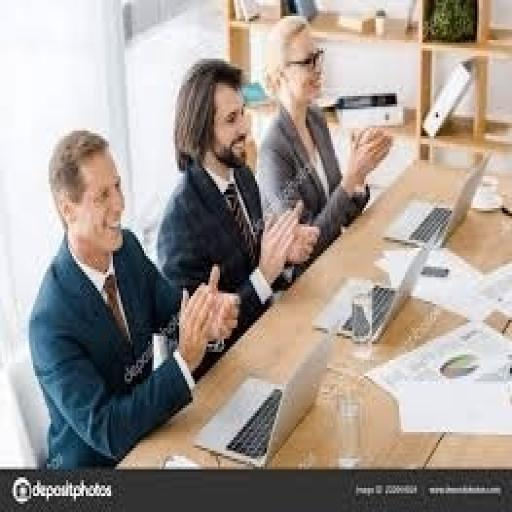clapping: (28, 126, 240, 470), (253, 11, 393, 280)
